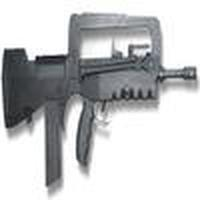gun: (1, 12, 194, 173)
